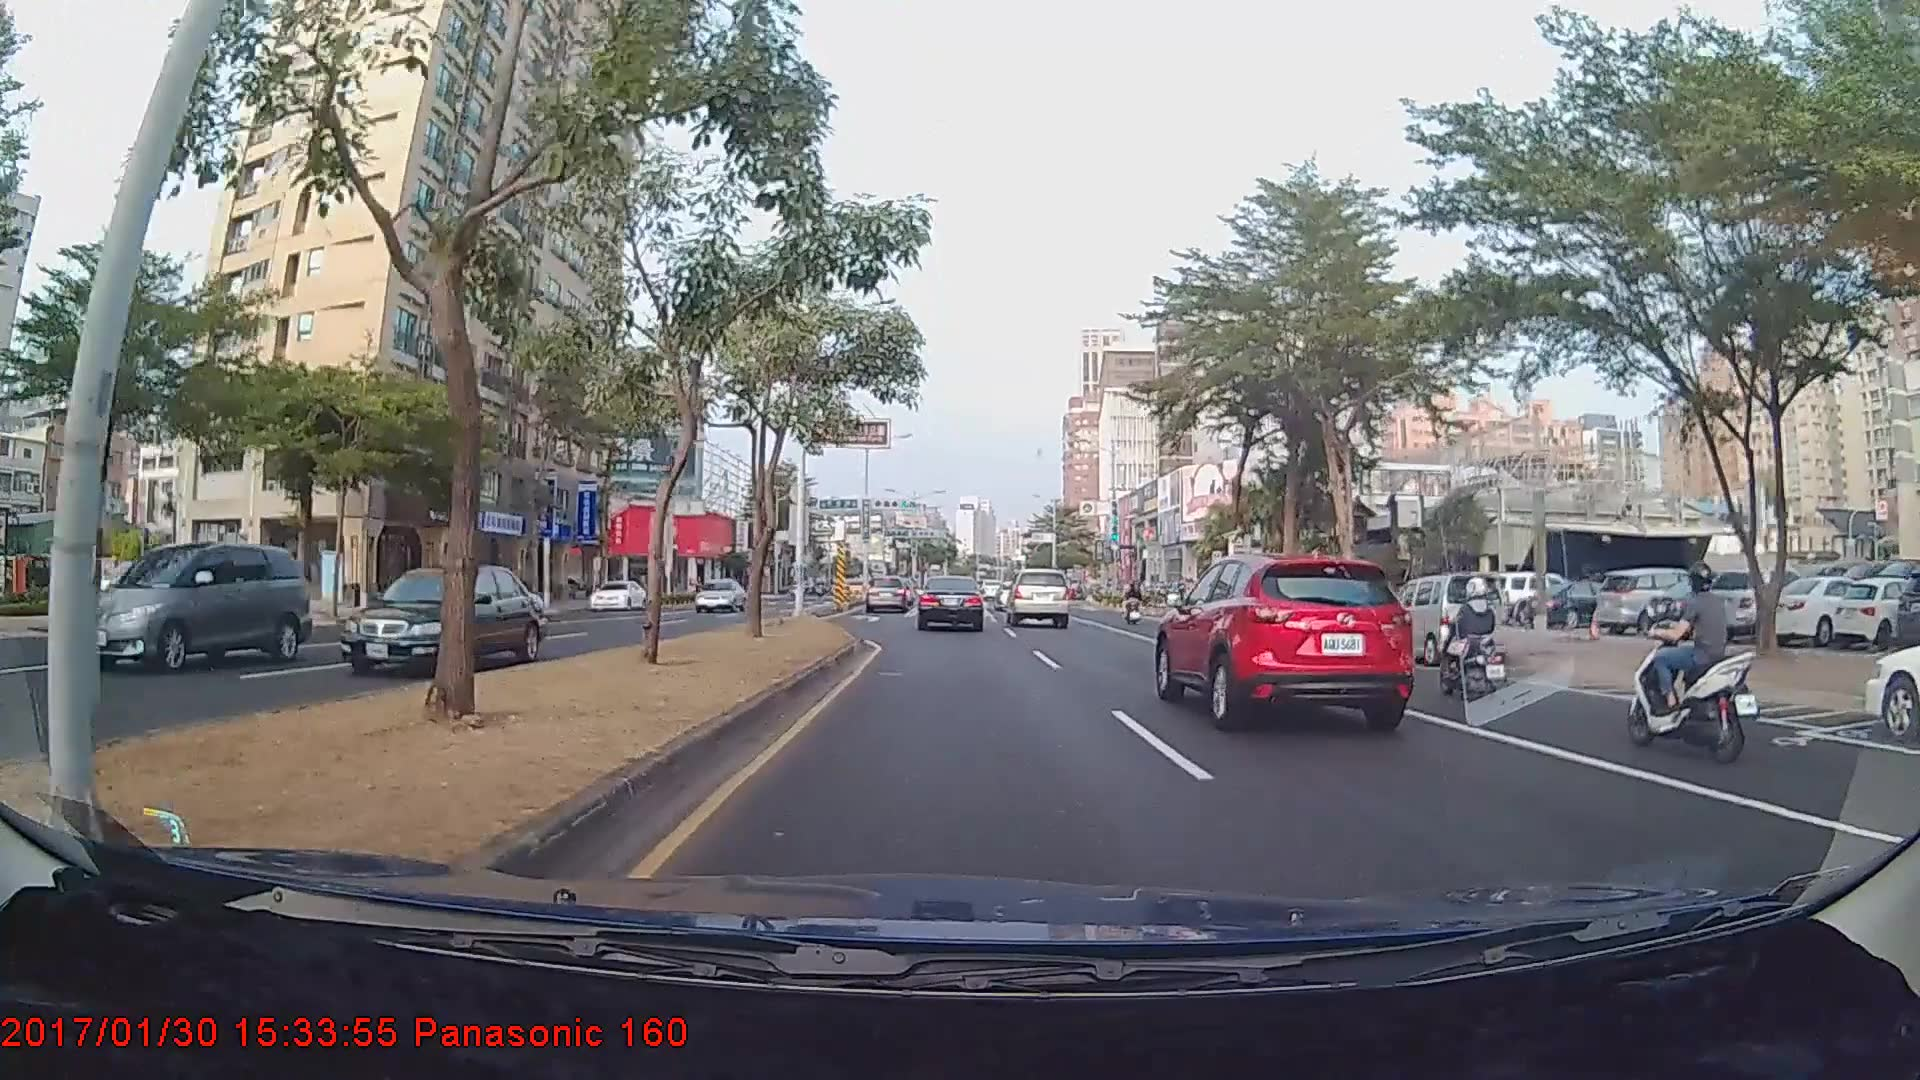rider: (1617, 555, 1767, 764), (1426, 573, 1520, 707), (1125, 585, 1151, 629)
vehicle: (1152, 549, 1411, 730), (74, 542, 313, 670), (338, 562, 542, 674), (1377, 573, 1505, 665), (1857, 596, 1920, 741), (1591, 568, 1718, 636), (1005, 566, 1071, 627), (916, 574, 985, 632), (692, 577, 746, 615), (863, 574, 911, 615), (587, 578, 645, 612)
